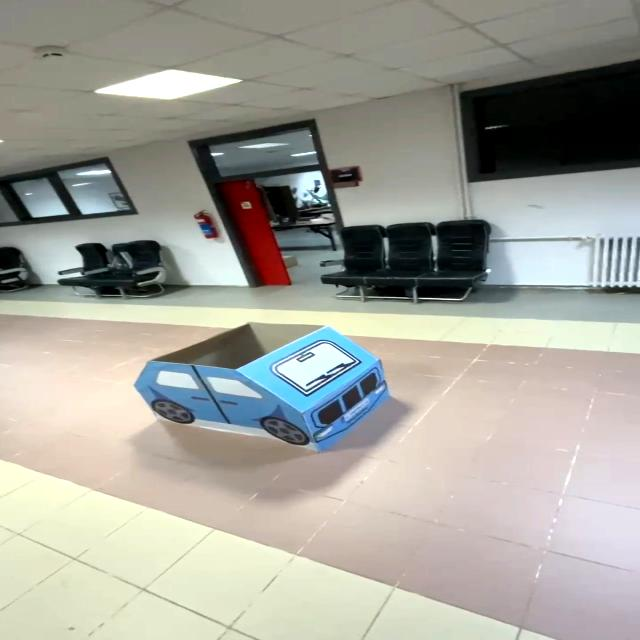blue_car: (117, 306, 401, 472)
